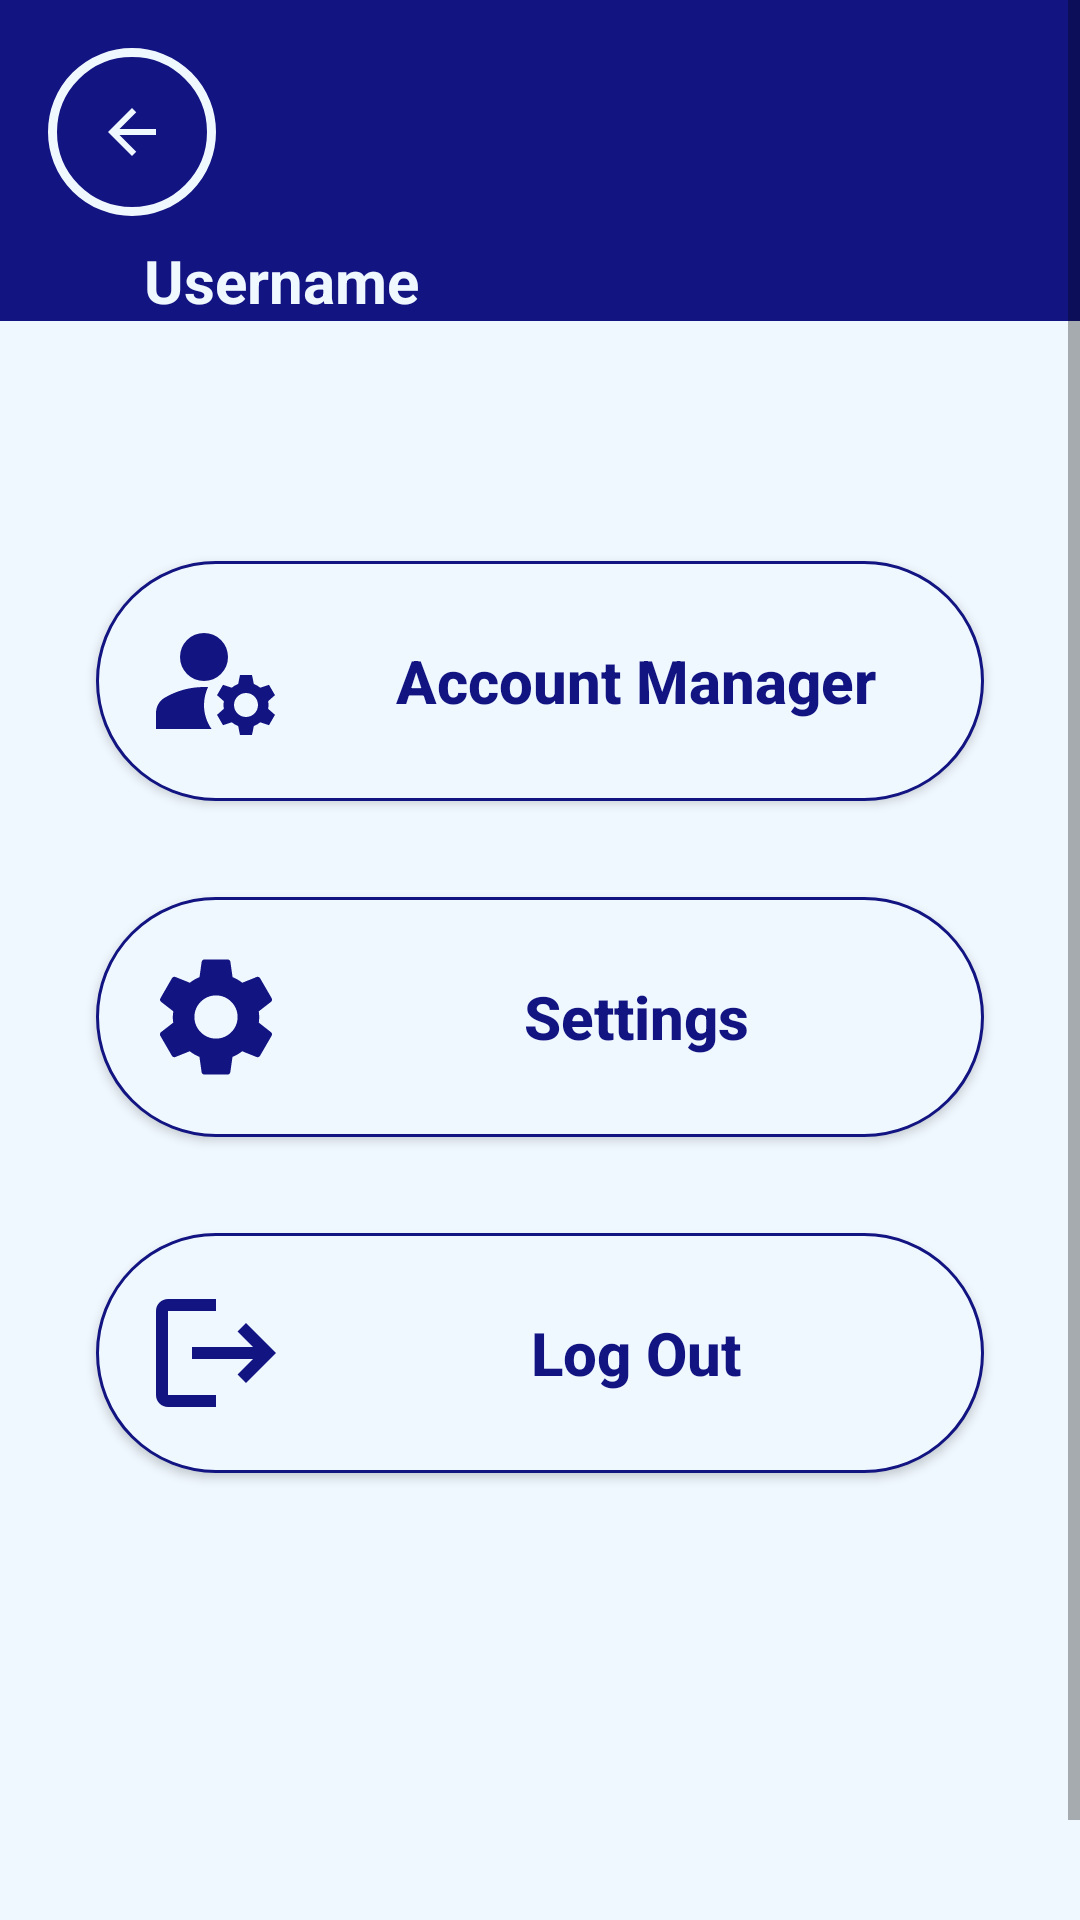

Where icons sit on this 1080x1920 app screen, as (left=x1, top=y1, right=x2, bottom=y2):
Back Button: (left=48, top=48, right=216, bottom=216)
